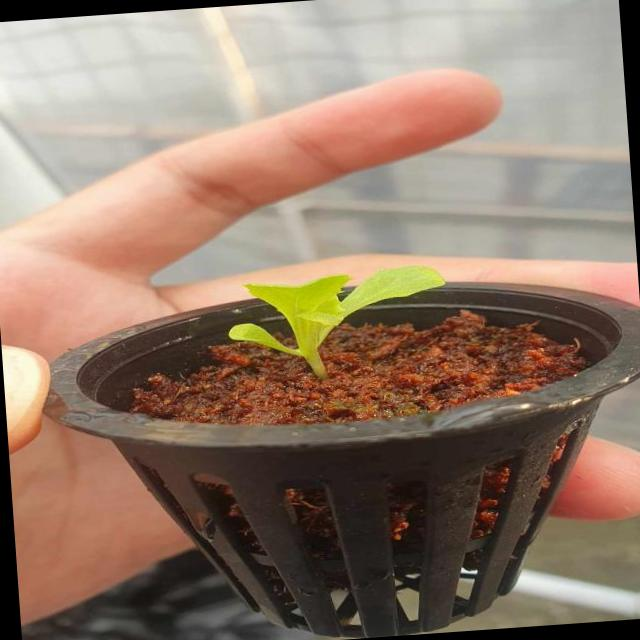Lettuce-Not-Ready-to-Harvest: (219, 249, 457, 384)
